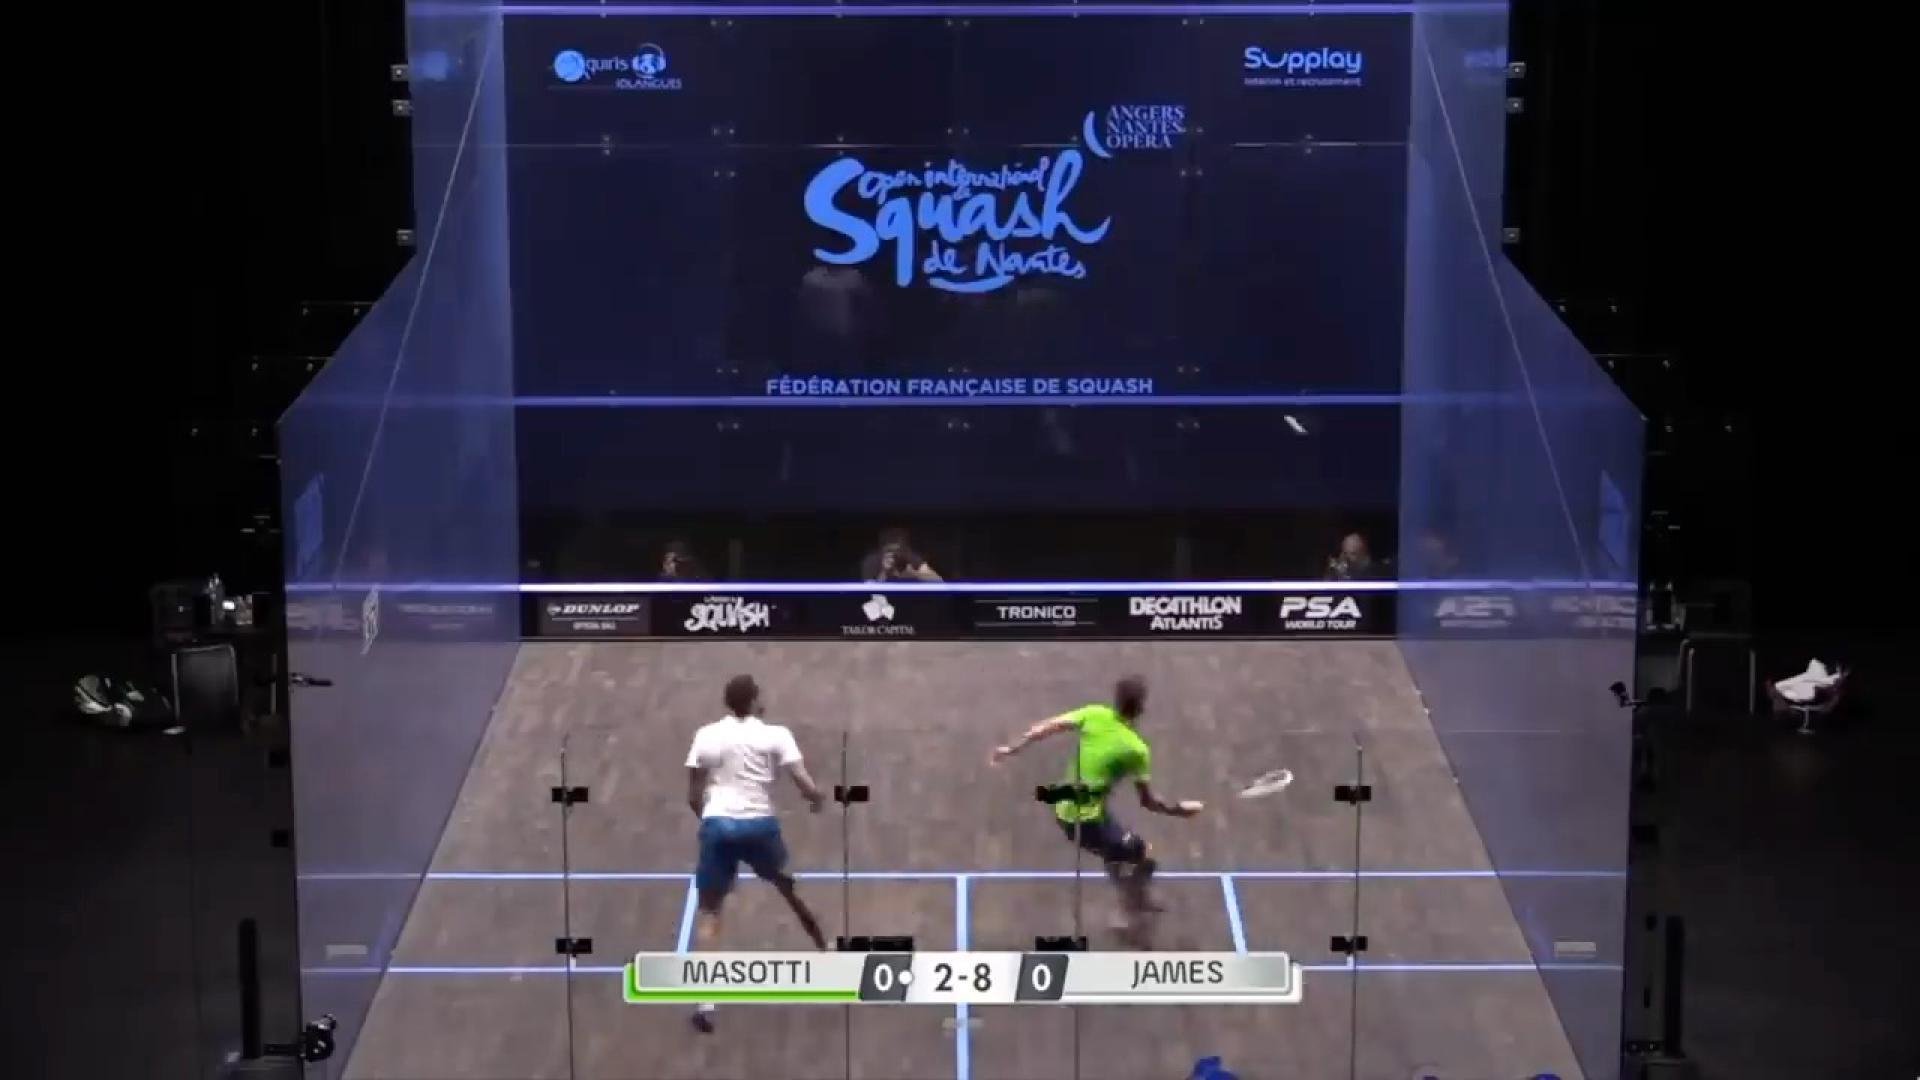Squash-Ball: (1267, 402, 1323, 455)
